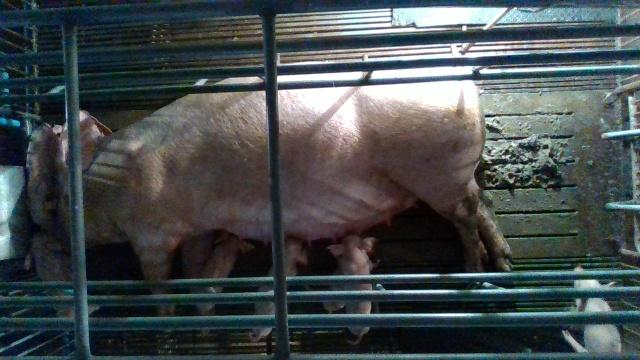piglet: (247, 237, 309, 341), (327, 235, 379, 345), (32, 233, 100, 317), (562, 264, 622, 353), (192, 230, 253, 315)
sow-sleep-lactate: (30, 65, 512, 315)
